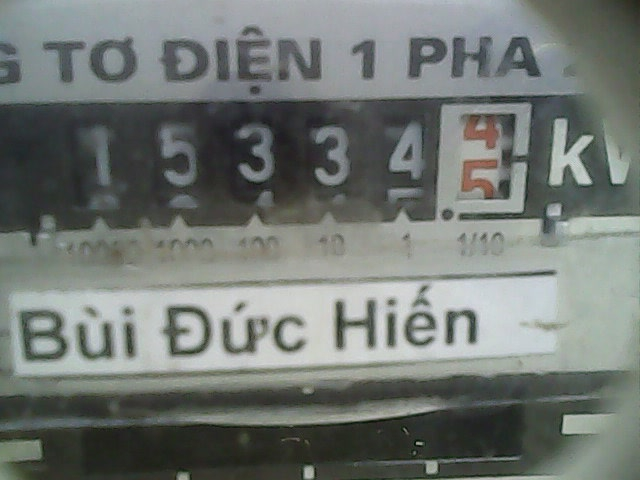phy_plate: (47, 96, 543, 224)
